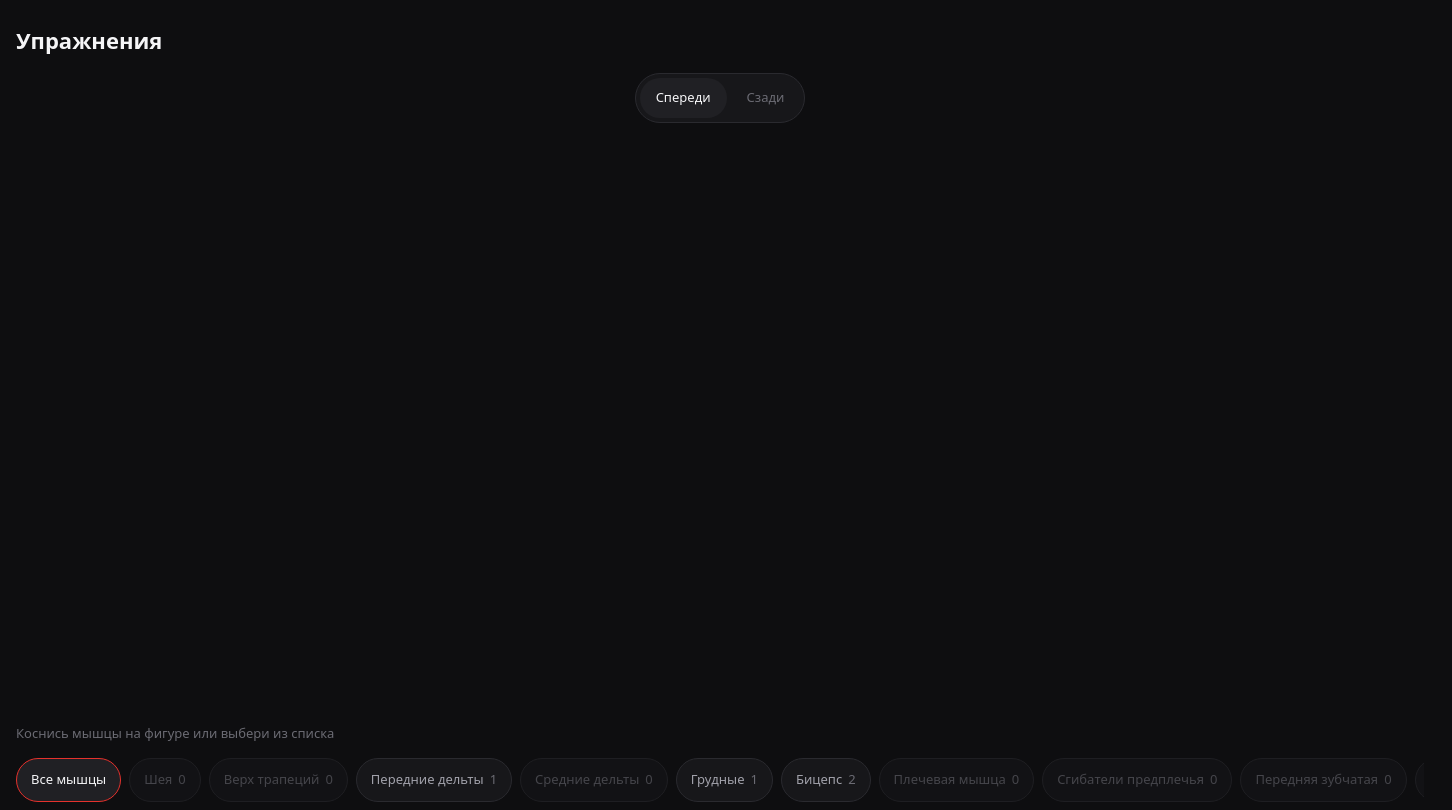
Test: рядом с фигурой — мышцы видимой стороны с числом упражнений
expect the button "Грудные 1" is shown: met, box [676,758,773,802]
expect the button "Бицепс 2" is shown: met, box [781,758,871,802]
Сзади — другой набор мышц.
Click the button "Сзади" at (765, 98), box [730,78,800,118]
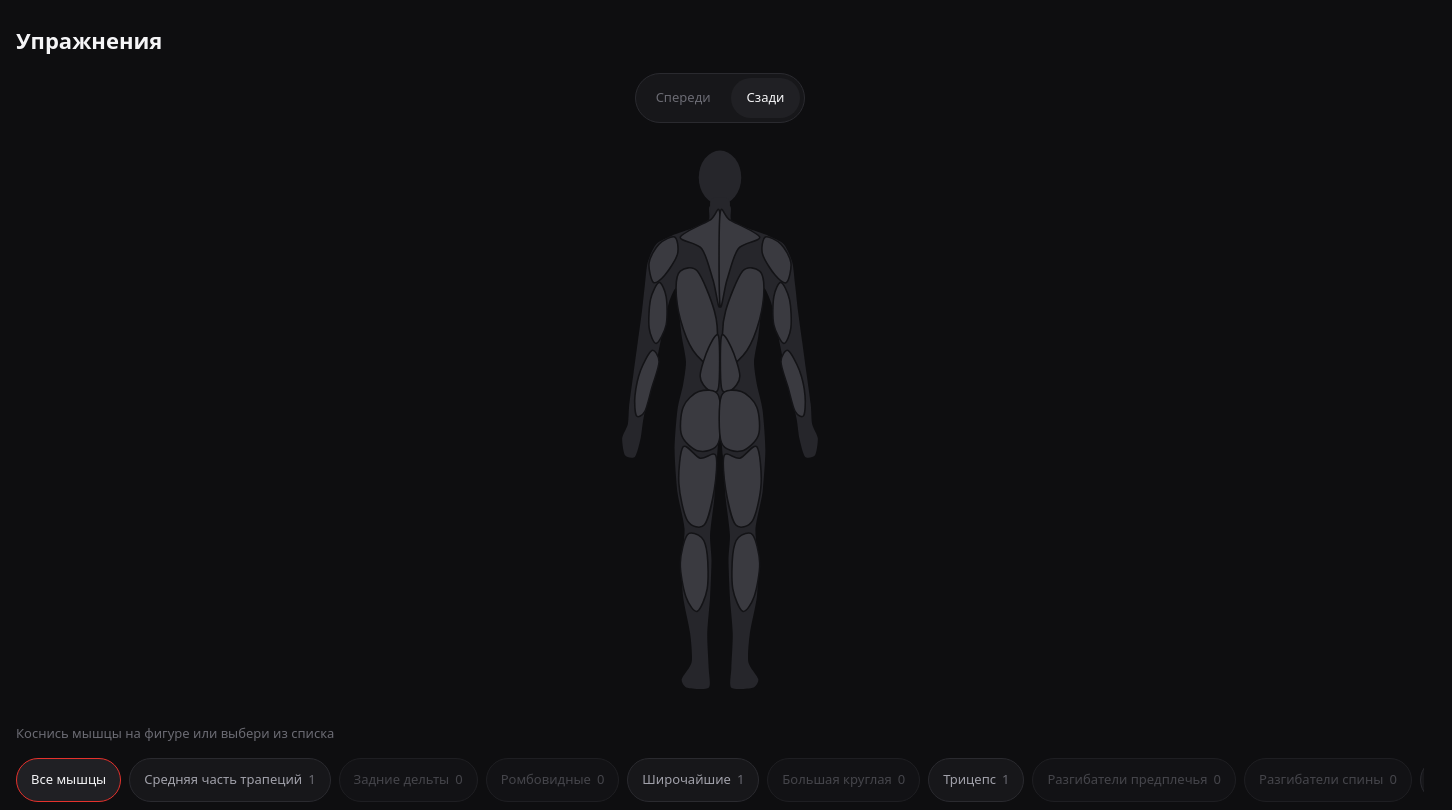
expect the button "Грудные" is not shown: met
expect the button "Широчайшие 1" is shown: met, box [627,758,759,802]
